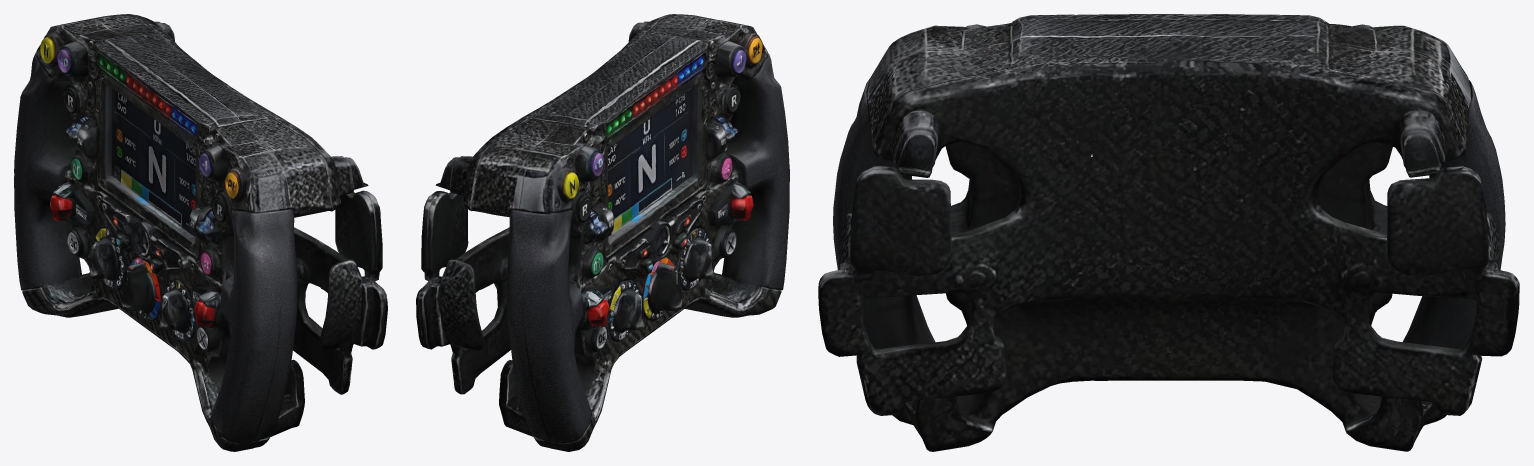
The model's file is volante.glb.
3 views of the same model, side by side, from view 1: azimuth 30°, elevation 25°; view 2: azimuth 150°, elevation 25°; view 3: azimuth 270°, elevation 25° (orthographic). The views are drawn at different scales.
Visible parts, largest first — view 1: tripo_node_2ab4eb38-a216-4157-8cd4-05e340f59ff6; view 2: tripo_node_2ab4eb38-a216-4157-8cd4-05e340f59ff6; view 3: tripo_node_2ab4eb38-a216-4157-8cd4-05e340f59ff6.
Part boxes in pixels (left/top/right/bottom): tripo_node_2ab4eb38-a216-4157-8cd4-05e340f59ff6: left=14, top=14, right=387, bottom=451; tripo_node_2ab4eb38-a216-4157-8cd4-05e340f59ff6: left=416, top=14, right=789, bottom=451; tripo_node_2ab4eb38-a216-4157-8cd4-05e340f59ff6: left=818, top=14, right=1519, bottom=451.
Size of the model in its own units: 0.149 by 0.2839 by 0.4501.
Materials: 1 (1 with a texture image).
